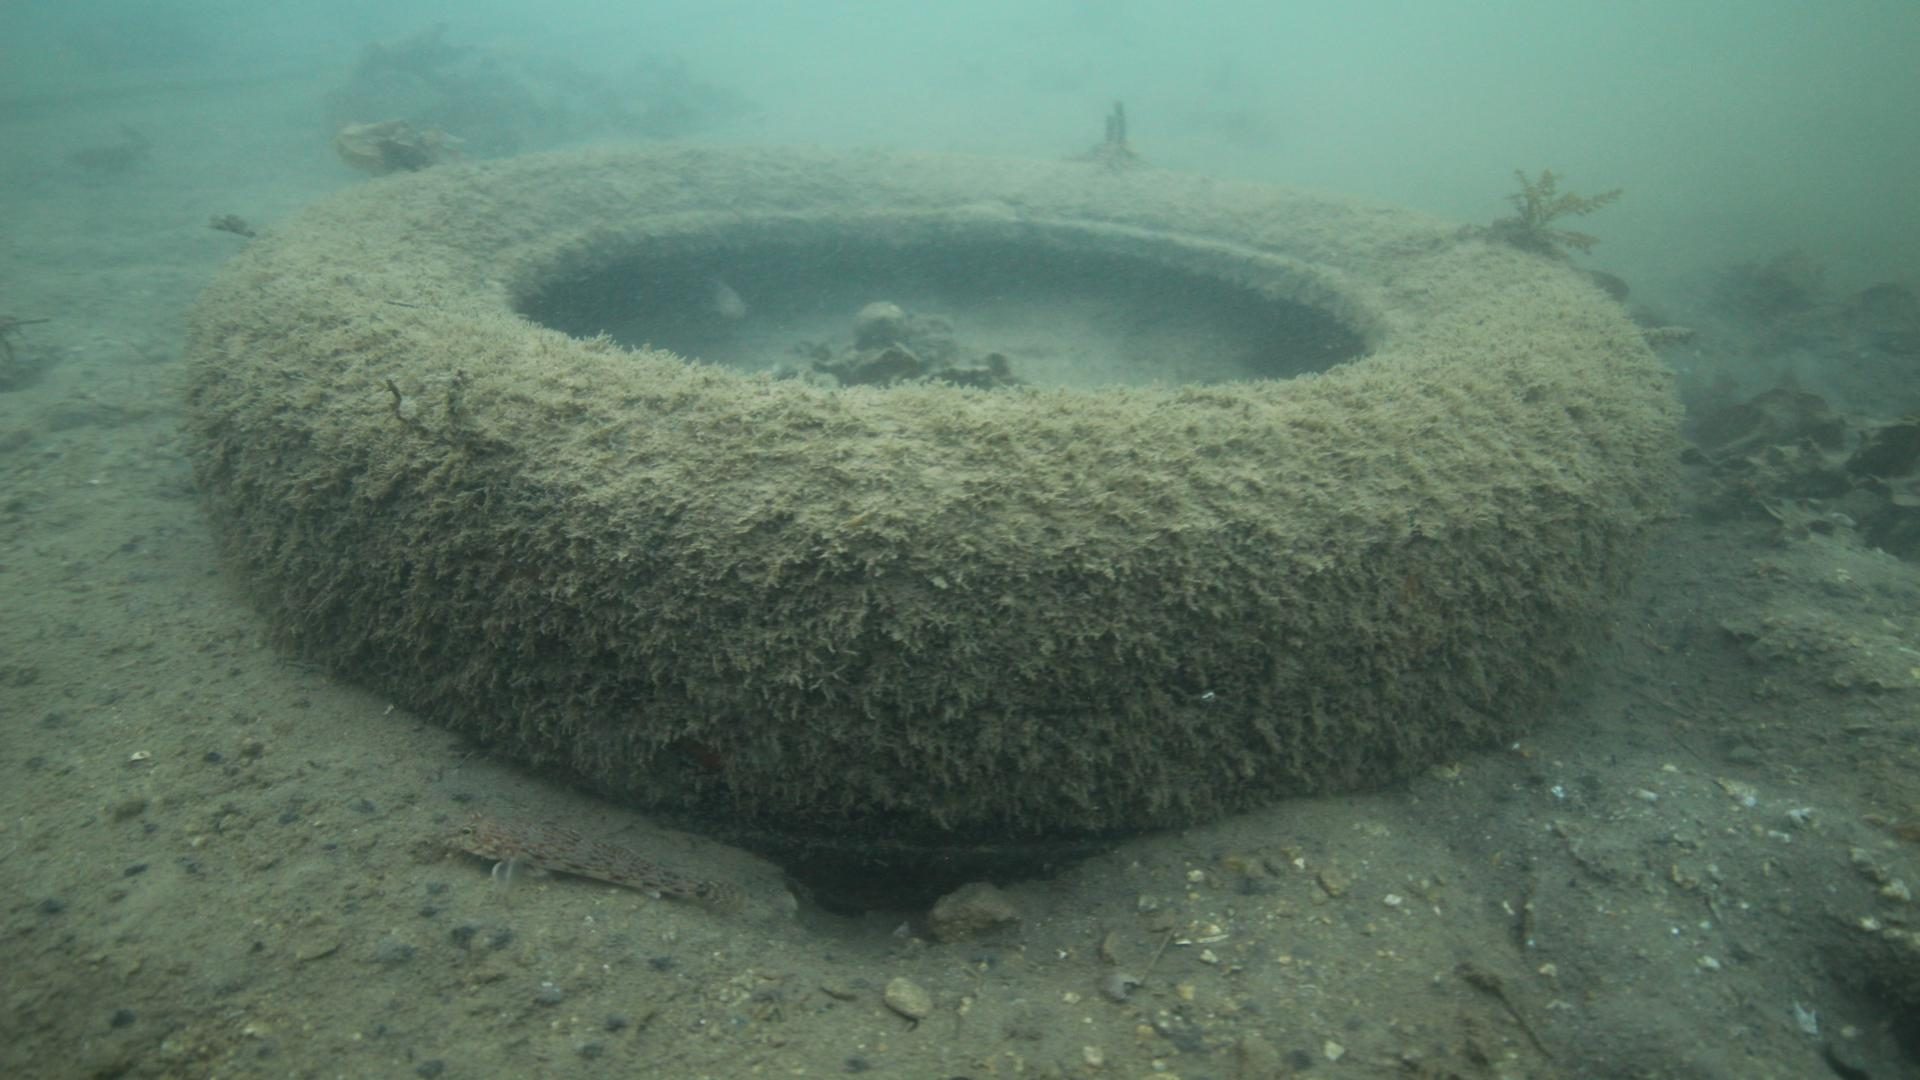tire: (185, 142, 1681, 874)
